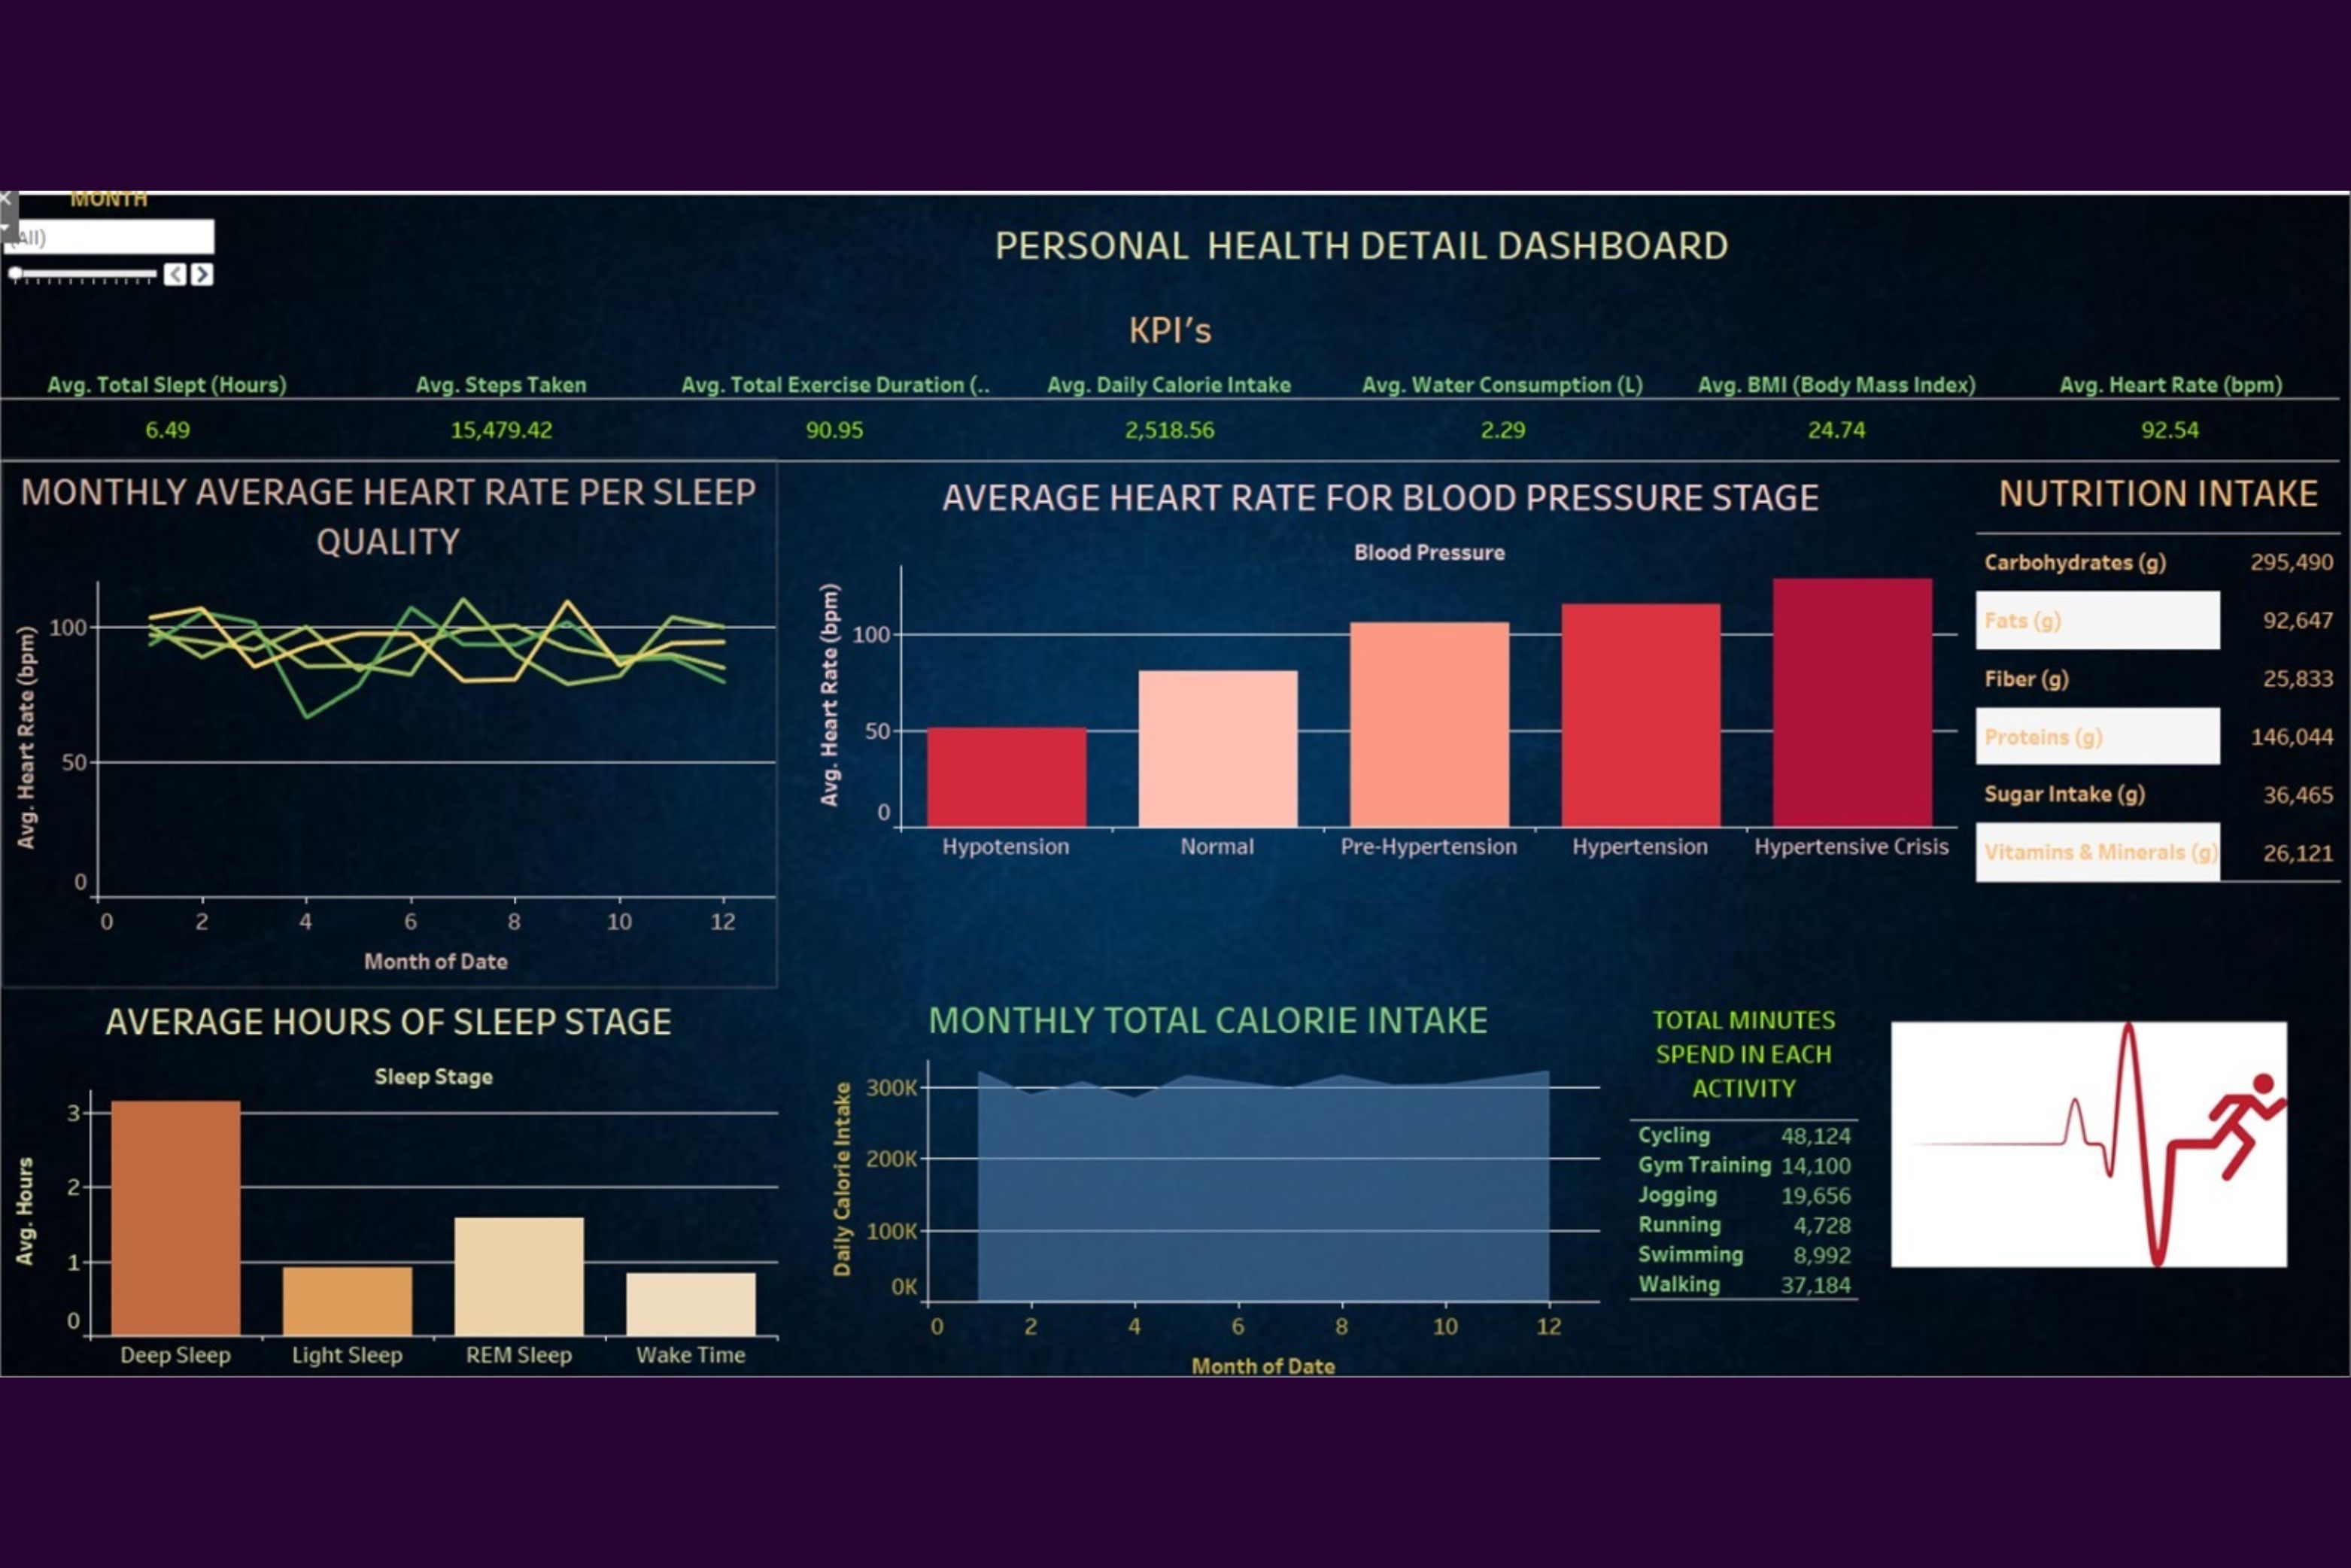

Layout of this report page (visuals, bound fields, positions):
{"tool":"tableau","page":{"name":"Health Visual Dash","canvas":[1000,1000],"units":"permille","ordinal":0},"visuals":[{"type":"text","box":[260.8,14.1,636.3,71.7]},{"type":"worksheet","title":"KPI'S","mark":"Automatic","box":[0,95.2,994.7,135.1]},{"type":"worksheet","title":"Sleep Quality","mark":"Automatic","rows":["Heart Rate (bpm)"],"cols":["Date"],"box":[0,229.1,329.6,434.8]},{"type":"worksheet","title":"Nutrition","mark":"Automatic","box":[840.3,230.3,154.9,347.8]},{"type":"worksheet","title":"Blood Pressure Stage","mark":"Automatic","rows":["Heart Rate (bpm)"],"cols":["Blood Pressure"],"box":[341.8,233.8,490.8,345.5]},{"type":"image","param":"Image/health-physical-fitness-download-icon-png-favpng-P2nUWQnBRG1ghaF2BLHzFLPAX","box":[803.7,646.3,168.5,297.3]},{"type":"worksheet","title":"Calory","mark":"Area","rows":["Daily Calorie Intake"],"cols":["Date"],"box":[347.2,666.3,333.1,332.6]},{"type":"worksheet","title":"Activity","mark":"Automatic","box":[693.1,672.1,104.1,260.9]}]}

Visuals, with their boxes on the dashboard's canvas, which has no fixed pixel size, in thousandths of its width and height (x1, y1, x2, y2). These are canvas units, not pixel positions in the 2351x1568 screenshot, which may show the page scaled, cropped or inside an application window:
text: select_region(261, 14, 897, 86)
"KPI'S" worksheet: select_region(0, 95, 995, 230)
"Sleep Quality" worksheet: select_region(0, 229, 330, 664)
"Nutrition" worksheet: select_region(840, 230, 995, 578)
"Blood Pressure Stage" worksheet: select_region(342, 234, 833, 579)
image: select_region(804, 646, 972, 944)
"Calory" worksheet (Area marks): select_region(347, 666, 680, 999)
"Activity" worksheet: select_region(693, 672, 797, 933)
